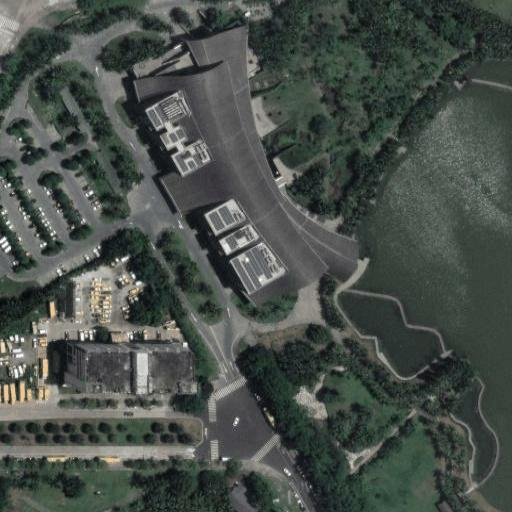building: (133, 23, 360, 308), (146, 94, 213, 177), (66, 345, 175, 391), (230, 242, 285, 294), (206, 200, 244, 235), (220, 225, 257, 255), (111, 332, 128, 341), (156, 124, 168, 136), (167, 145, 179, 155)
